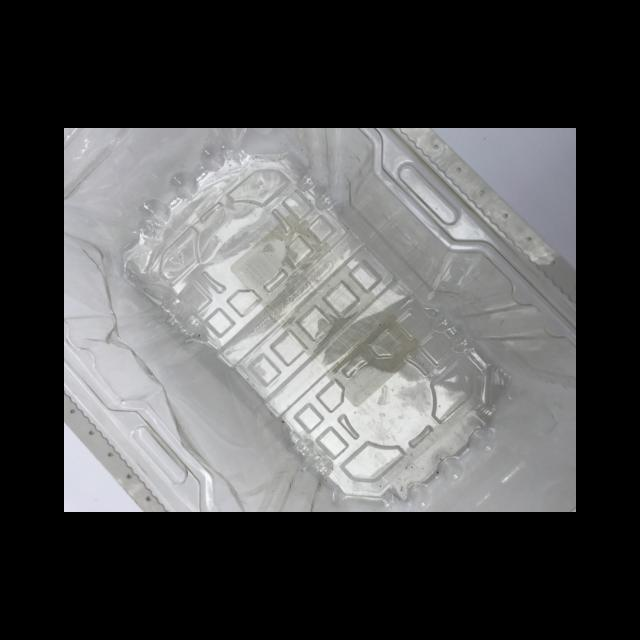plastic: (64, 128, 575, 511)
